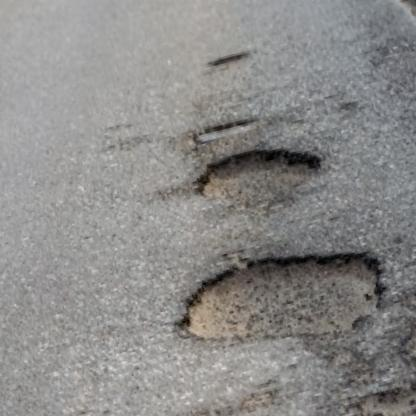pothole: (169, 227, 396, 373), (189, 132, 329, 219), (191, 111, 262, 146), (208, 51, 247, 69)
